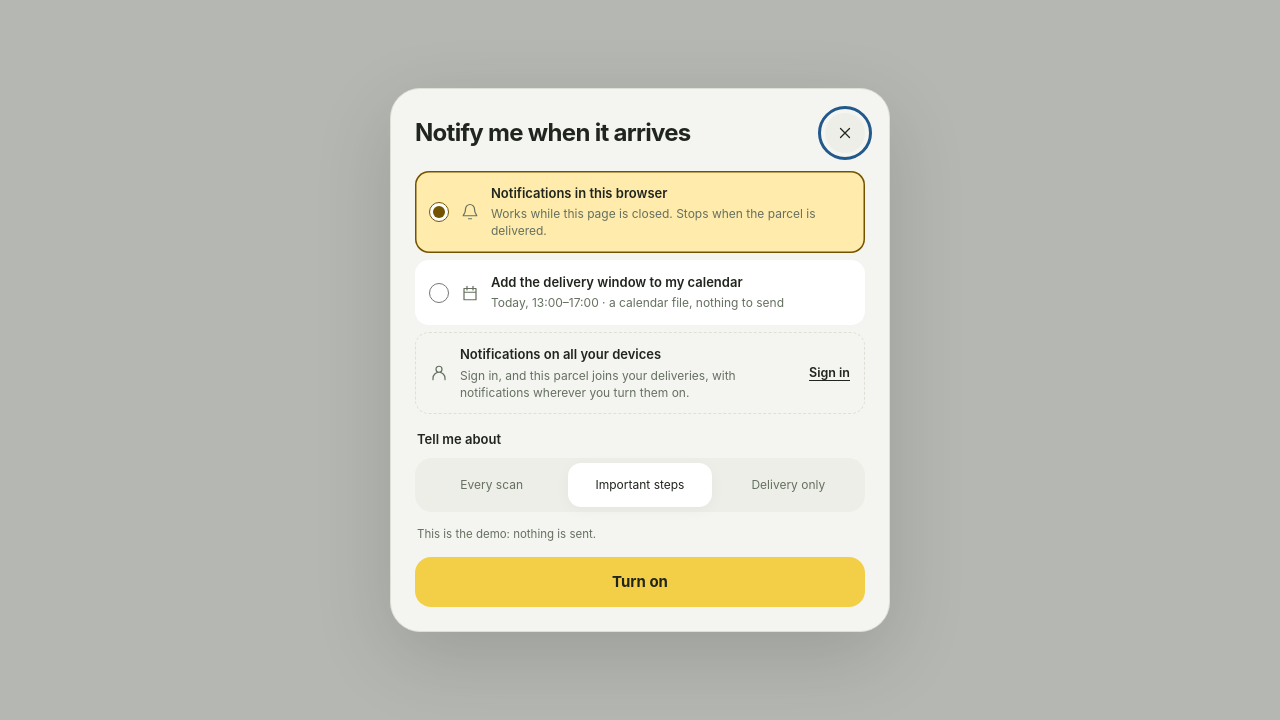
Scenario: the Notify me sheet › in the demo says that nothing is sent, before and after turning on
The width and height of the screenshot is (1280, 720).
Expected: the text "This is the demo: nothing is sent." is shown, [417, 527, 596, 541]
Click the button "Turn on" at {"x": 640, "y": 582}, box [415, 557, 865, 607]
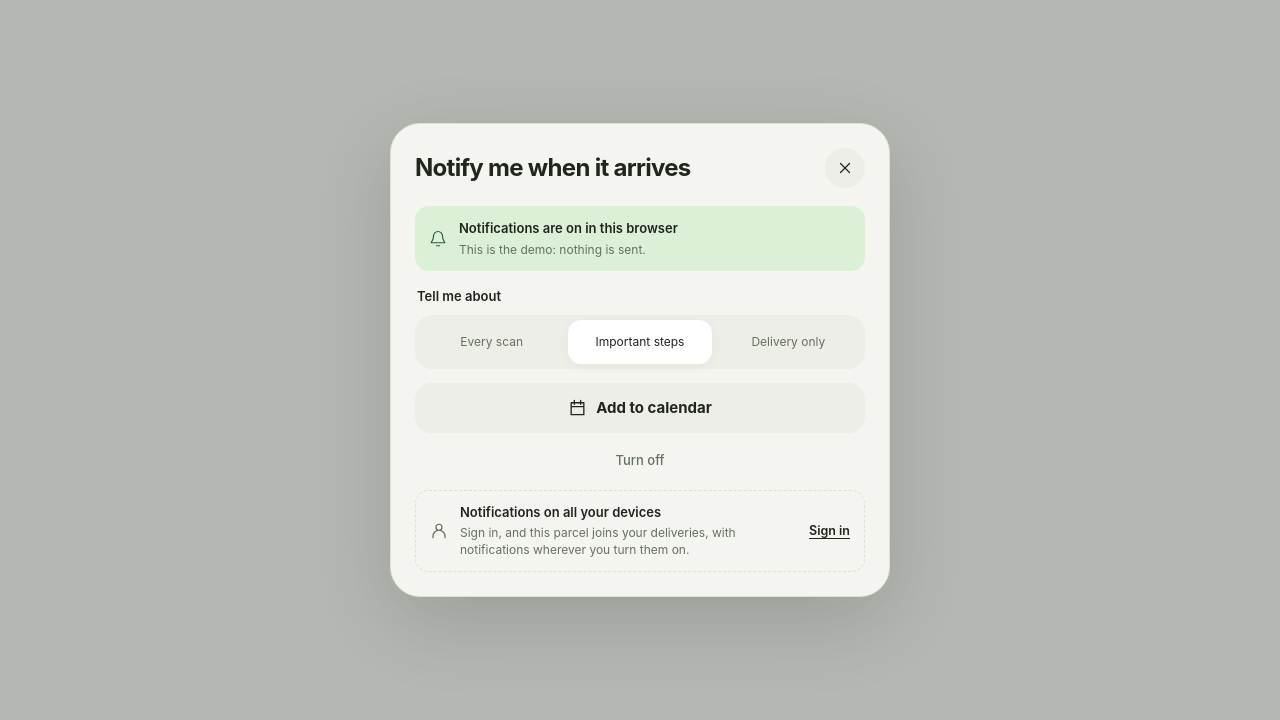
Expected: the text "This is the demo: nothing is sent." is shown, [459, 242, 646, 256]
Expected: the text "Notifications are on in this browser" is shown, [459, 220, 678, 236]
